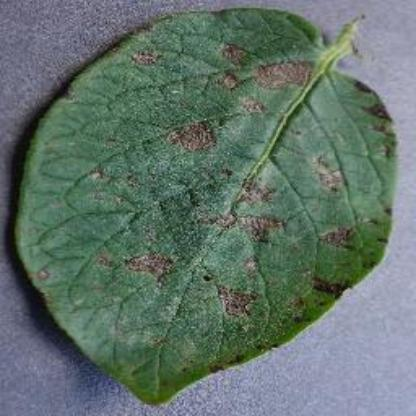Early-Blight: (9, 7, 398, 405)
